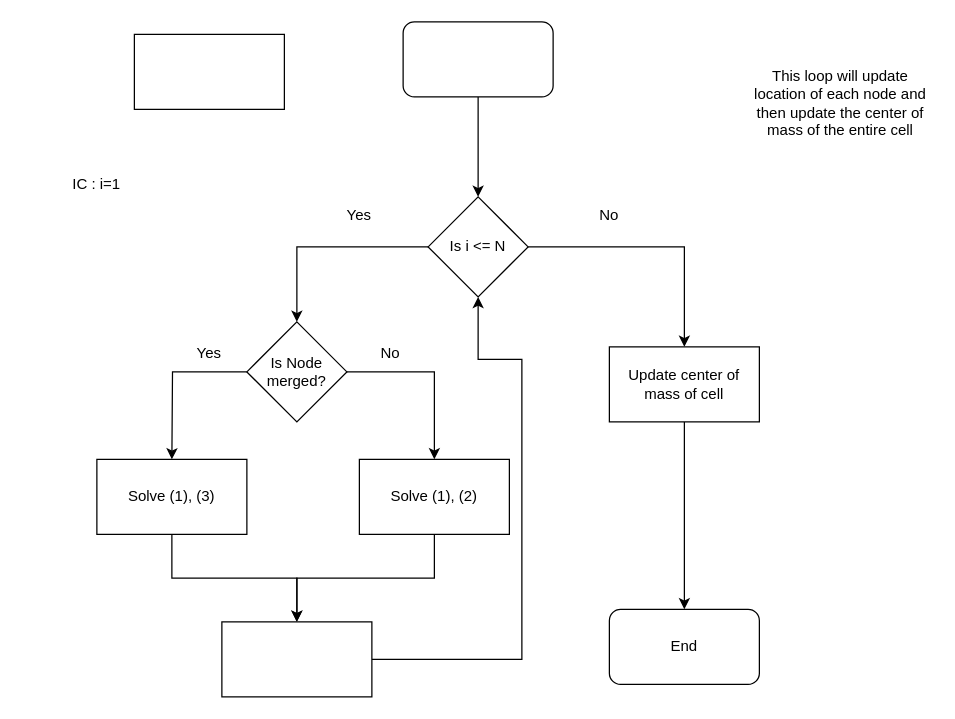
Image size: 955x719. Some labels were removed from this diagram. The shapes that lost their labels are listed below. From the top down, each one's centre as x and y in pixels, then its label:
At [208,71]: "This chart needs to be repeated for every cell".
At [477,59]: "Start".
At [296,659]: "i++".
